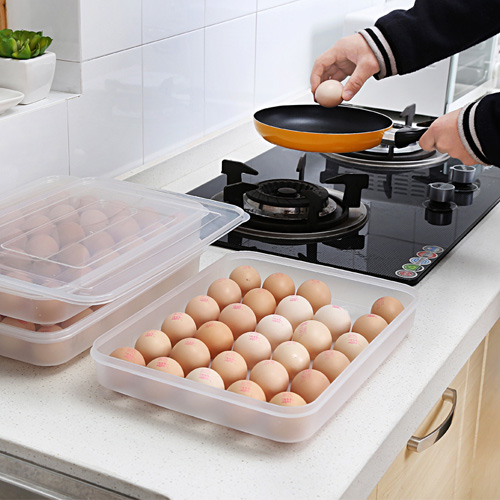egg: (110, 264, 402, 416), (2, 192, 201, 338), (313, 79, 345, 104)
